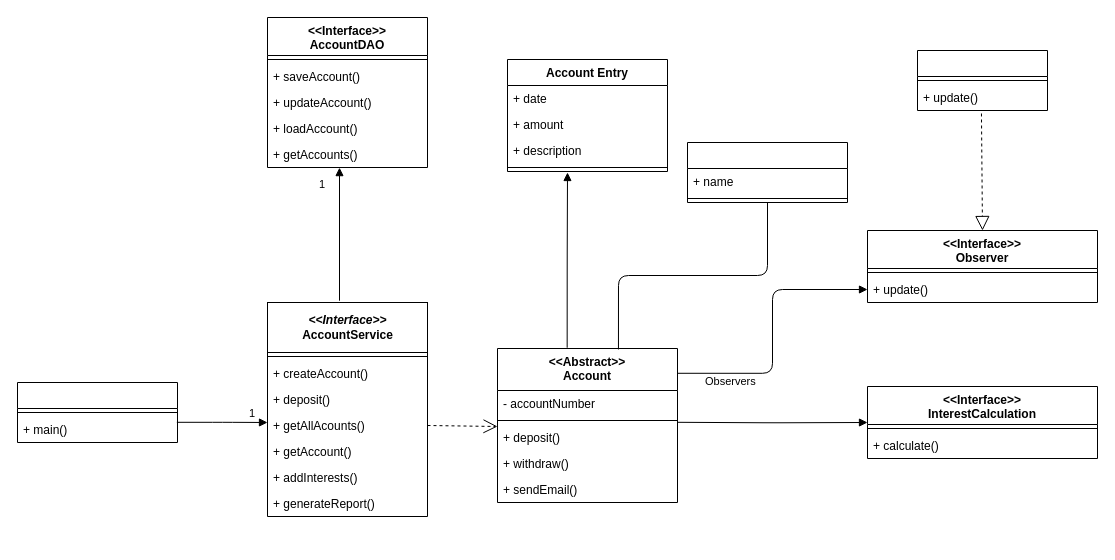
This 1115x560 diagram has some shape labels left out. Each missing label, with the box of its shape:
Application: (16, 382, 178, 442)
Customer: (686, 142, 848, 202)
Email: (916, 50, 1048, 110)
